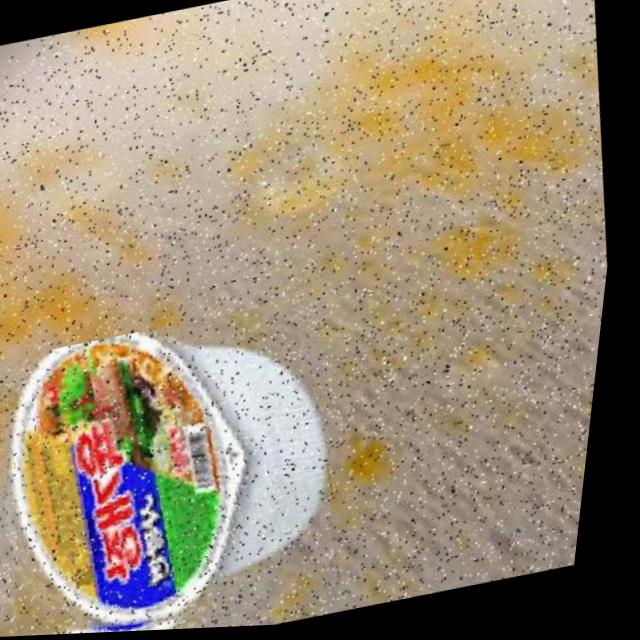Miscellaneous: (0, 297, 377, 639)
